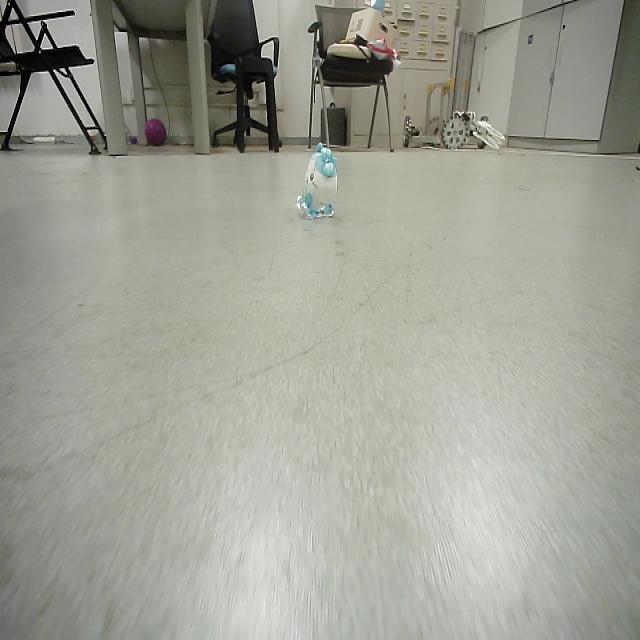xiaoba: (296, 136, 340, 226)
